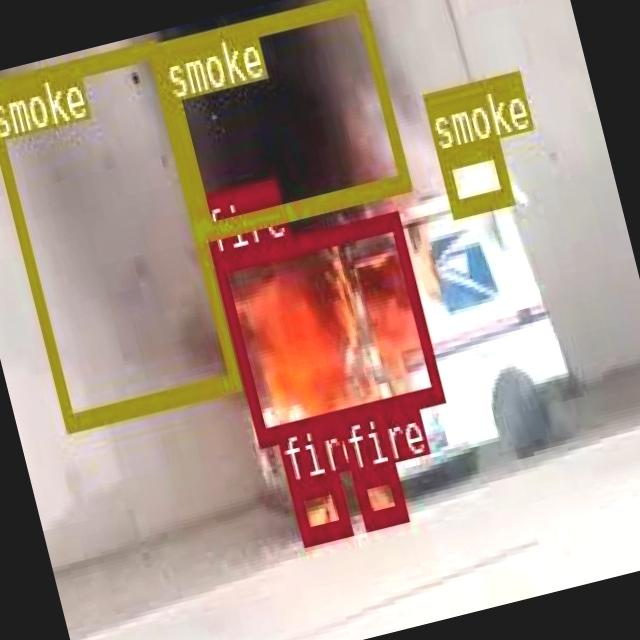fire: (210, 207, 442, 444), (288, 472, 349, 544), (350, 460, 406, 526)
smoke: (0, 39, 239, 428), (154, 0, 409, 238), (434, 138, 511, 215)
